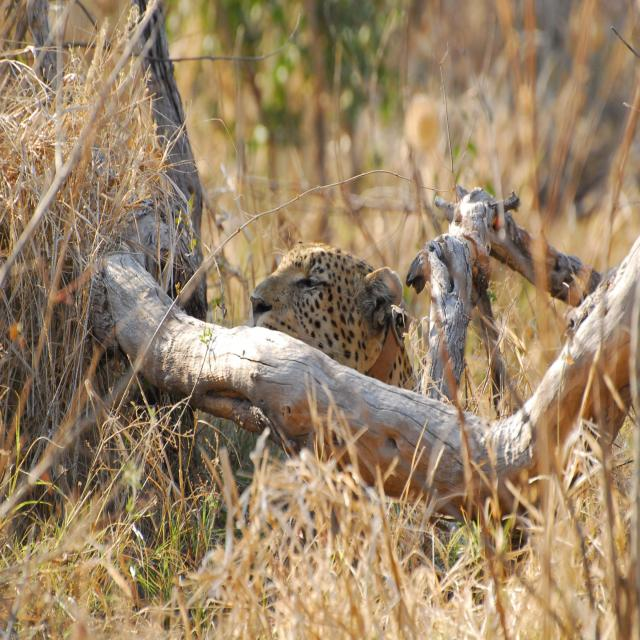Leopard: (249, 238, 412, 394)
